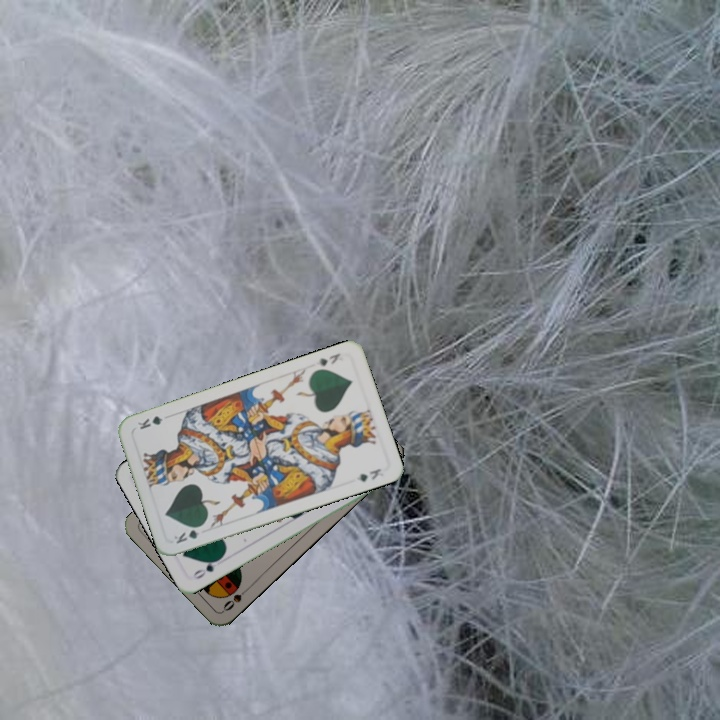GK: (170, 521, 207, 546), (315, 349, 343, 369)
GO: (189, 553, 224, 582)
SO: (219, 583, 253, 614)
